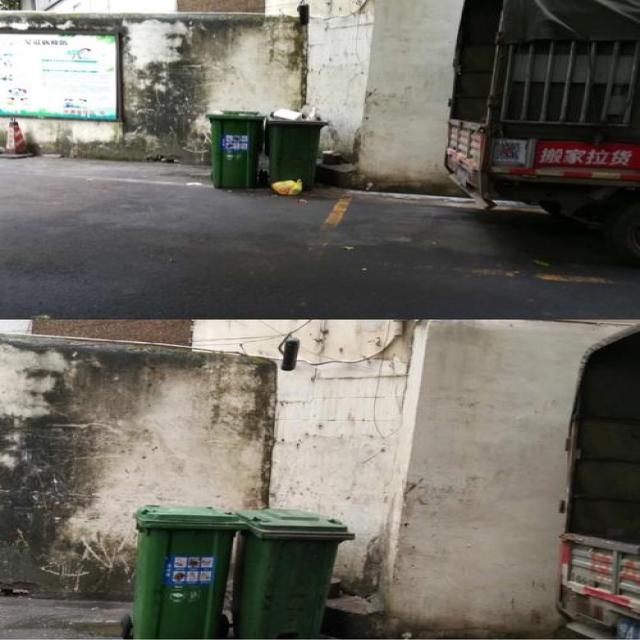garbage: (269, 178, 301, 193)
garbage_bin: (230, 506, 354, 639), (130, 503, 244, 639), (205, 110, 261, 188)
overflow: (265, 106, 326, 186)
